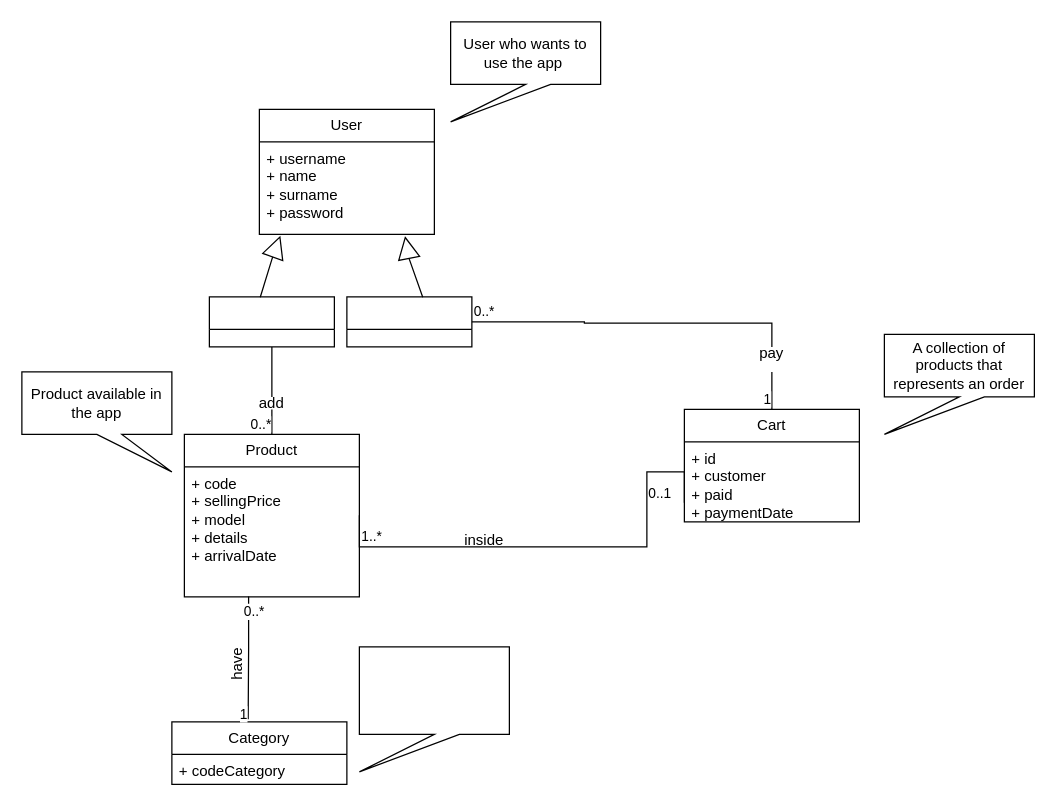
Some shapes in this 1056 by 810 pixel diagram are drawn without their labels. Here are the shapes that lost their labels. From the top down, the centre of each, then its label:
At (x=271, y=321): "Manager".
At (x=409, y=321): "Customer".
At (x=433, y=709): "Category that represents the different types of products available".
